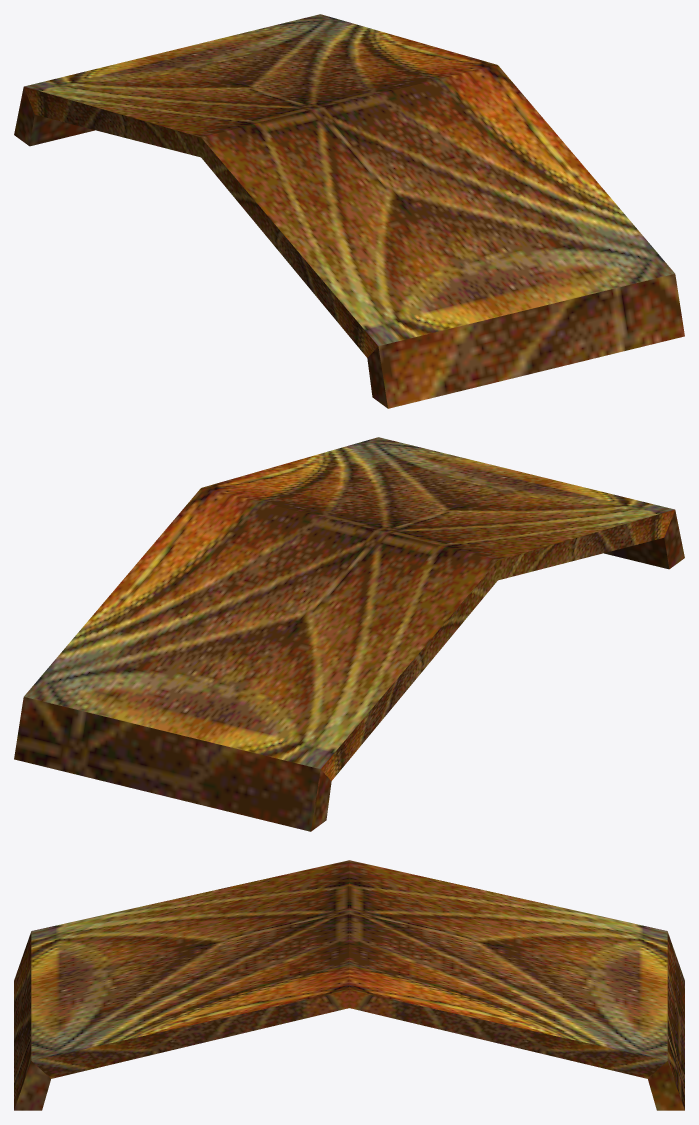
File: Ceiling02.obj
3 renders of one model, top to bottom at view 1: azimuth 30°, elevation 25°; view 2: azimuth 150°, elevation 25°; view 3: azimuth 270°, elevation 25°, orthographic. The views are drawn at different scales.
Parts seen in each view (by area): view 1: Ceiling02_Cube.004; view 2: Ceiling02_Cube.004; view 3: Ceiling02_Cube.004.
Part boxes in pixels (x1,y1,x2,y2): Ceiling02_Cube.004: (14, 14, 684, 408); Ceiling02_Cube.004: (14, 437, 684, 831); Ceiling02_Cube.004: (14, 860, 684, 1110).
Bounding box in the file's own units: 4 × 1.73 × 8.73.
